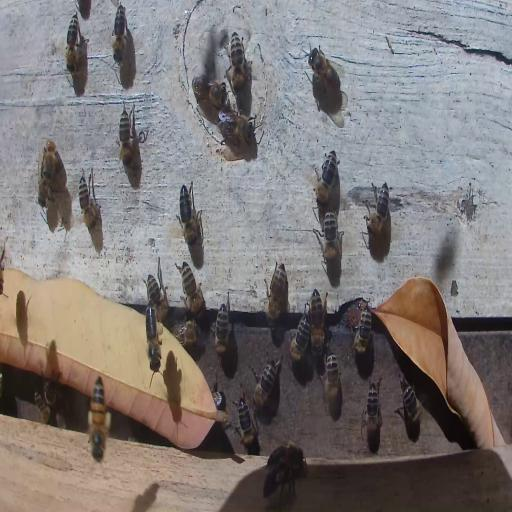bee: (87, 374, 111, 464), (306, 43, 342, 95), (260, 462, 303, 505), (318, 203, 343, 274), (142, 298, 164, 374), (178, 179, 202, 247), (250, 357, 279, 409), (364, 180, 390, 238), (312, 149, 338, 207), (265, 259, 288, 323), (398, 378, 425, 432), (78, 167, 99, 235), (178, 262, 204, 316), (351, 300, 374, 361), (364, 375, 384, 440), (218, 110, 256, 144), (191, 72, 227, 107), (235, 396, 257, 452), (37, 147, 57, 206), (322, 350, 341, 411), (228, 31, 246, 95), (267, 440, 304, 471), (288, 309, 310, 361), (118, 106, 136, 168), (146, 269, 168, 319), (213, 302, 230, 360), (311, 288, 325, 358), (112, 3, 126, 63), (33, 384, 54, 424), (178, 318, 202, 350), (66, 14, 78, 75), (209, 378, 226, 410)
